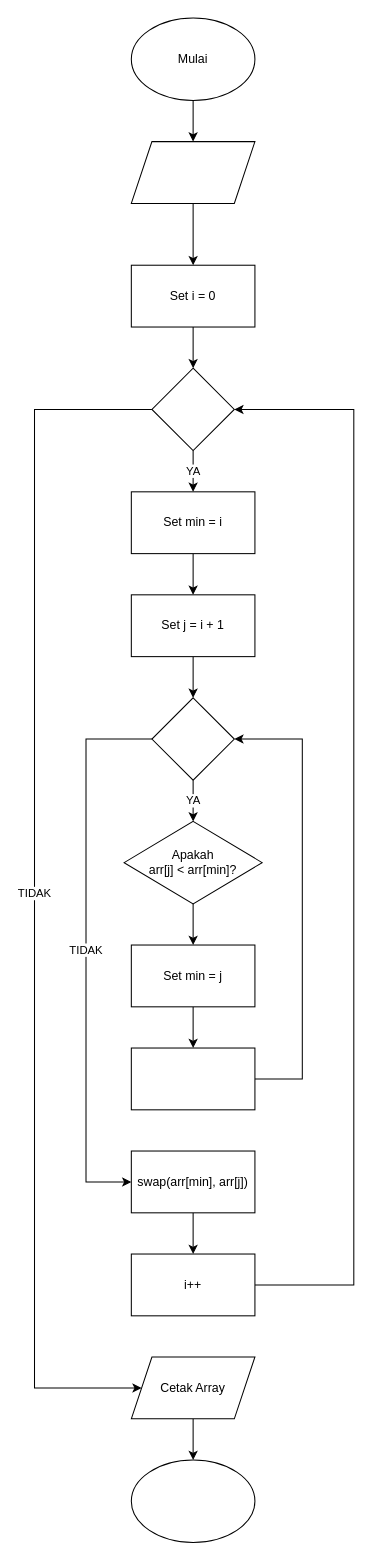
Some shapes in this 380 by 1560 pixel diagram are drawn without their labels. The shapes that lost their labels are listed below. From the top down, each one's centre as x and y in pixels, then its label:
At (192,172): "Baca panjang array (n) dan array (arr)".
At (192,409): "Apakah i < n-1?".
At (192,738): "Apakah j < n?".
At (192,1078): "j++".
At (192,1500): "Selesai".
